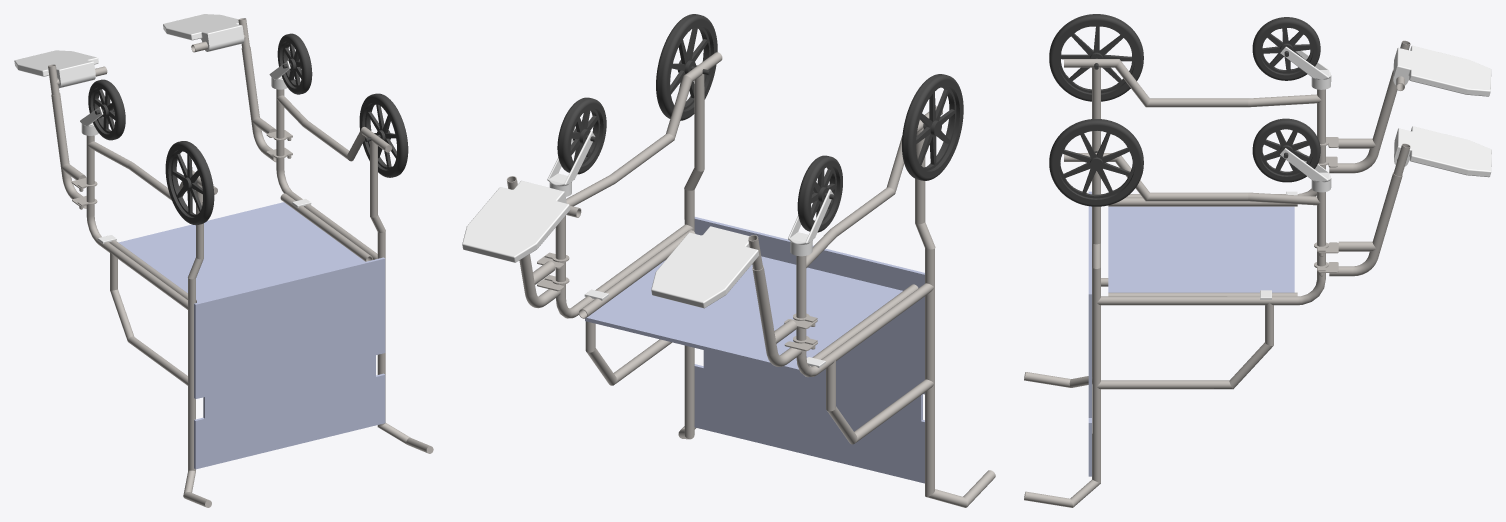
The picture shows the model from 3 angles, left to right: view 1: azimuth 30°, elevation 25°; view 2: azimuth 150°, elevation 25°; view 3: azimuth 270°, elevation 25°; orthographic projection. The views are drawn at different scales.
Parts seen in each view (by area): view 1: Boss-Extrude1 (×4), Cut-Extrude1 (×2), Fillet1 (×3), Boss-Extrude2 (×2), Boss-Extrude3 (×2), Fillet2; view 2: Boss-Extrude1 (×4), Cut-Extrude1 (×2), Fillet1 (×3), Boss-Extrude2 (×2), Boss-Extrude3 (×2), Cut-Extrude2 (×2), Fillet2; view 3: Boss-Extrude1 (×4), Cut-Extrude1 (×2), Boss-Extrude2 (×2), Fillet1 (×3), Boss-Extrude3 (×2), Fillet2, Cut-Extrude2 (×2).
Boxes of the visible parts, x1,y1,x2,y2 form: Boss-Extrude1 (×4): [109, 193, 385, 469]; Cut-Extrude1 (×2): [86, 89, 433, 507]; Fillet1 (×3): [14, 14, 244, 208]; Boss-Extrude2 (×2): [165, 93, 408, 225]; Boss-Extrude3 (×2): [88, 33, 312, 140]; Fillet2: [241, 47, 292, 162]; Boss-Extrude1 (×4): [579, 217, 924, 483]; Cut-Extrude1 (×2): [555, 52, 995, 507]; Fillet1 (×3): [462, 180, 817, 366]; Boss-Extrude2 (×2): [656, 14, 963, 180]; Boss-Extrude3 (×2): [557, 97, 842, 232]; Cut-Extrude2 (×2): [547, 127, 833, 256]; Fillet2: [519, 254, 563, 308]; Boss-Extrude1 (×4): [1088, 191, 1297, 476]; Cut-Extrude1 (×2): [1024, 59, 1325, 507]; Boss-Extrude2 (×2): [1049, 14, 1143, 206]; Fillet1 (×3): [1326, 45, 1491, 177]; Boss-Extrude3 (×2): [1252, 17, 1320, 182]; Fillet2: [1318, 172, 1402, 276]; Cut-Extrude2 (×2): [1280, 46, 1331, 192].
Size of the model in its own units: 24.69 by 35.44 by 39.53.
